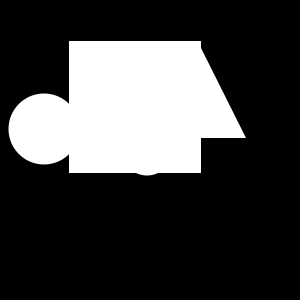circle: (69, 41, 201, 173)
rectangle: (8, 94, 80, 164), (121, 124, 172, 176)
triangle: (156, 48, 246, 138)
